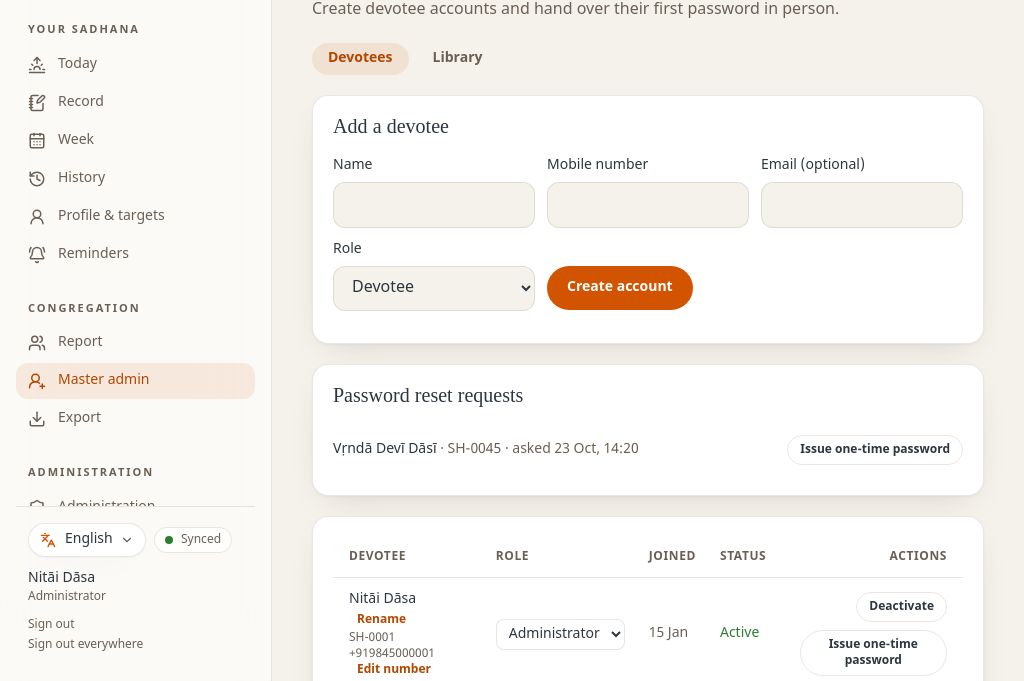
Test: MasterAdminScreen › lets an administrator create a coordinator
The image size is (1024, 681).
Type "Gaura Dāsa" into the field labelled "Name".
click(434, 205); type("Gaura Dāsa")  # box left=333, top=182, right=535, bottom=228
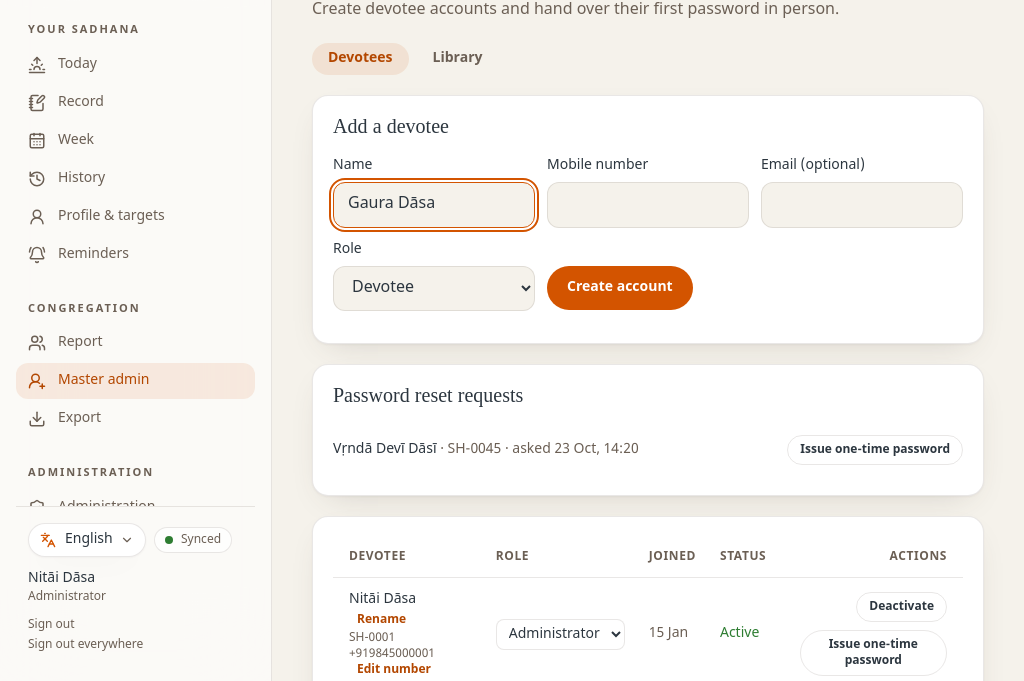
Type "98450 00302" into the field labelled "Mobile number".
click(648, 205); type("98450 00302")  # box left=547, top=182, right=749, bottom=228
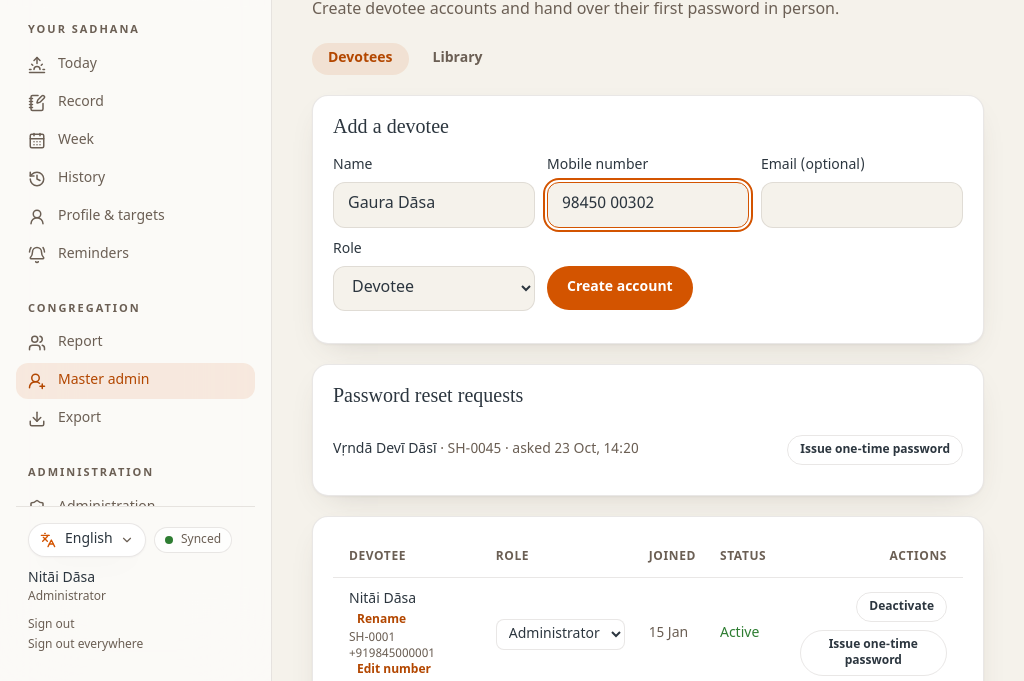
Select "Coordinator" in the dropdown labelled "Role" at x=434, y=288, box left=333, top=266, right=535, bottom=311
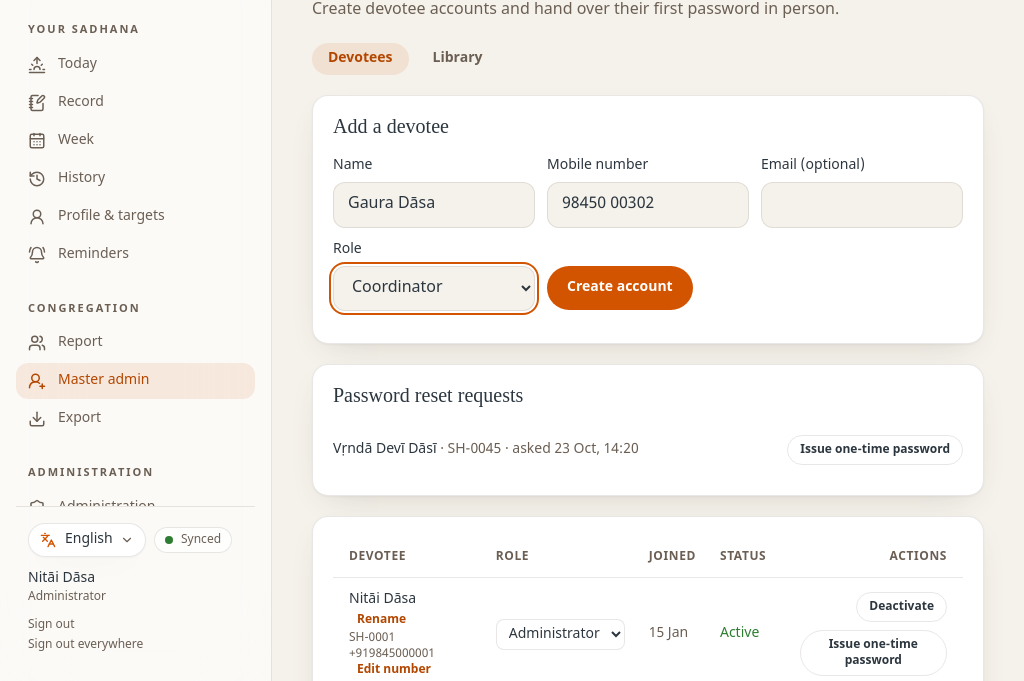
Click the button "Create account".
click(620, 288)  # box left=547, top=266, right=693, bottom=310
(page scrolled)
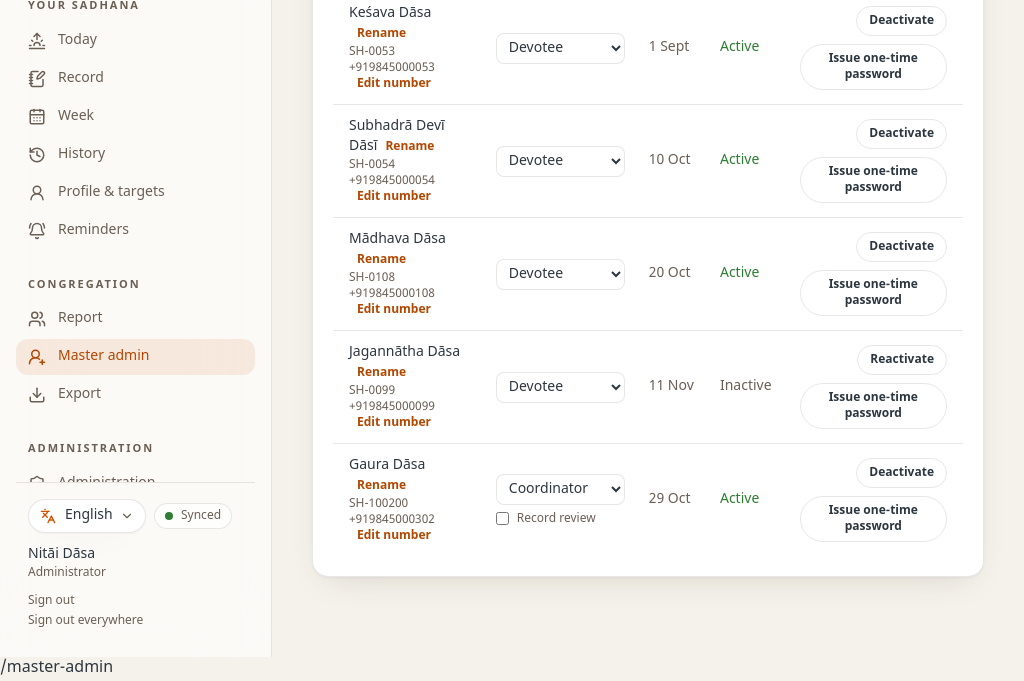
Expected: the dropdown named "Role of Gaura Dāsa" shows "Coordinator", left=496, top=474, right=625, bottom=504
